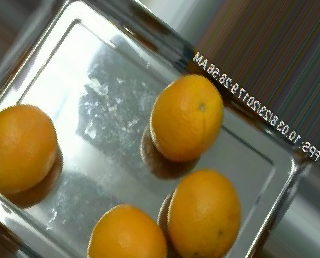Orange: (167, 167, 243, 257), (148, 73, 223, 162)
